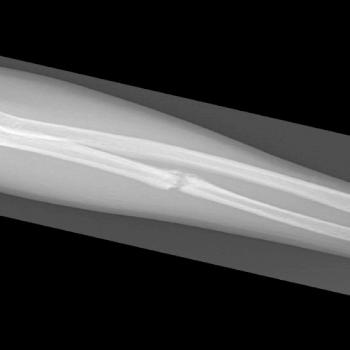Fracture: (149, 167, 207, 195)
